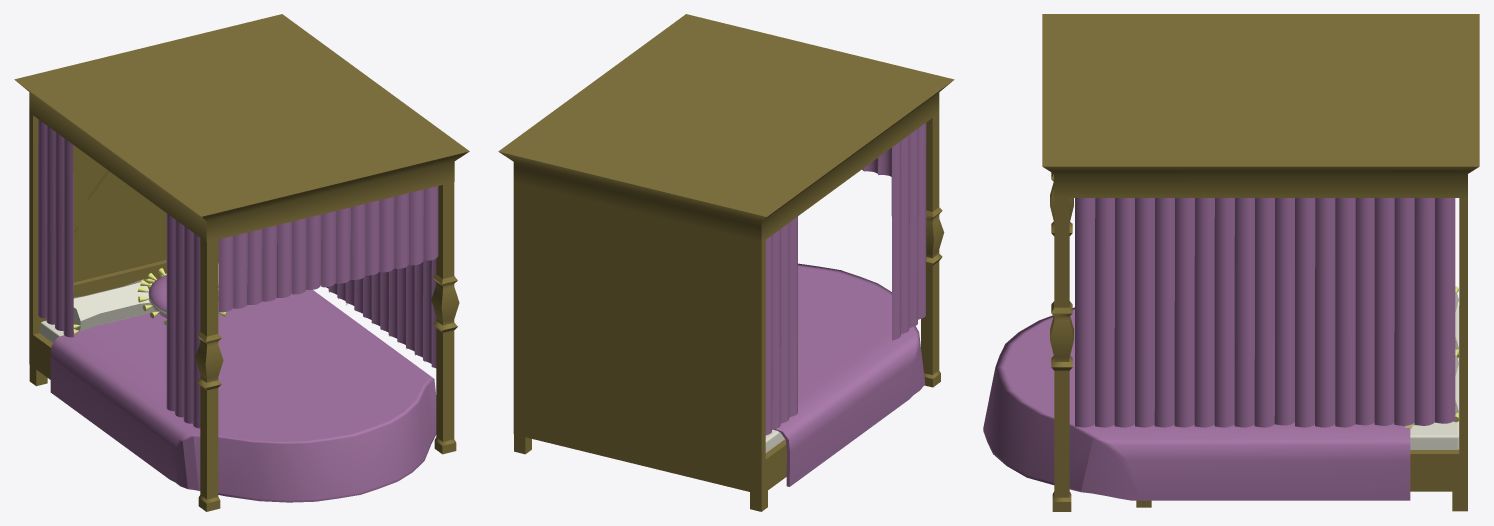
The model's file is PrincessBed.fbx.
The picture shows the model from 3 angles, left to right: view 1: azimuth 30°, elevation 25°; view 2: azimuth 150°, elevation 25°; view 3: azimuth 270°, elevation 25°; orthographic projection. The views are drawn at different scales.
Visible parts, largest first — view 1: polySurface25449; view 2: polySurface25449; view 3: polySurface25449.
Boxes of the visible parts, left/top/right/bottom form: polySurface25449: left=14, top=14, right=469, bottom=511; polySurface25449: left=498, top=14, right=954, bottom=511; polySurface25449: left=983, top=14, right=1479, bottom=511.
Bounding box in the file's own units: 8.67 × 9.29 × 11.92.
